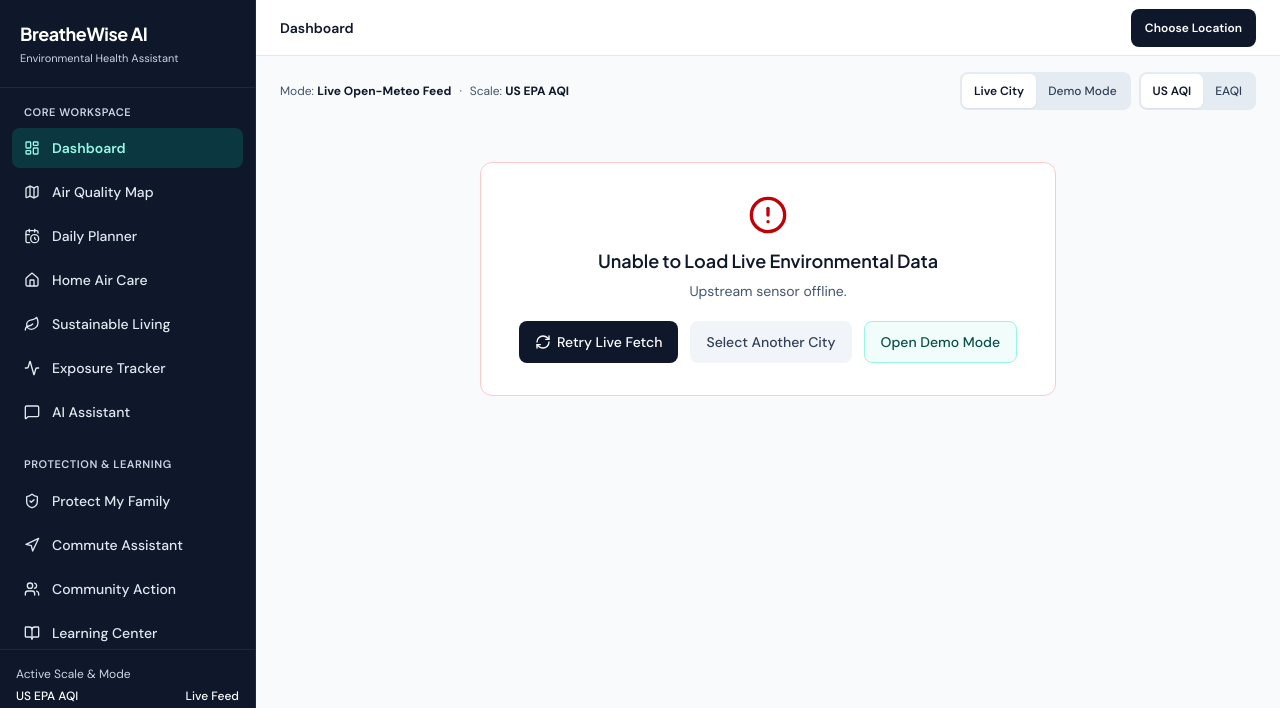
Scenario: BreatheWise AI Advanced Workflows: Live Gemini, Loading/Error Recovery, Notifications & Export › shows Dashboard loading skeleton, handles live fetch failure, and recovers on Retry Live Fetch
Expected: the message named "Loading air quality data" is shown, [480, 162, 1056, 396]
Expected: the heading "Unable to Load Live Environmental Data" is shown, [598, 249, 938, 272]
// Retry recovers seamlessly
Click the button "Retry Live Fetch" at (599, 342), box [519, 321, 678, 363]
(page scrolled)
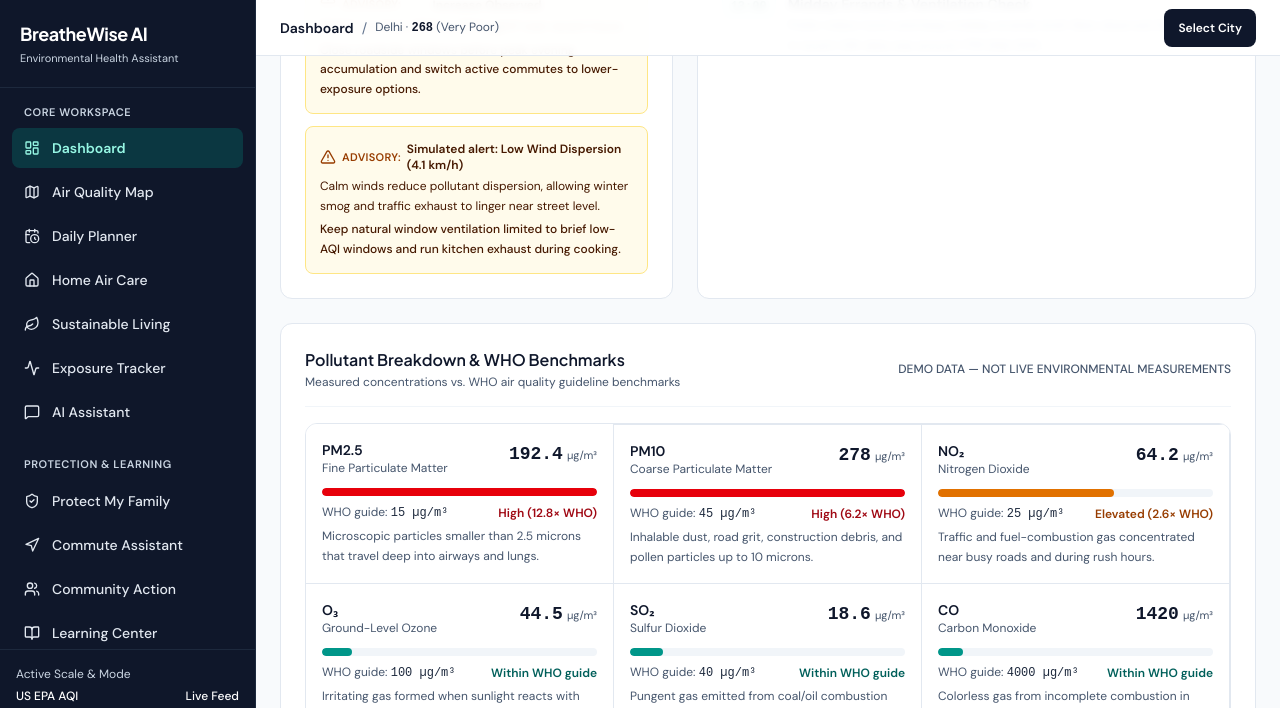
Expected: the heading "Pollutant Breakdown & WHO Benchmarks" is shown, [305, 348, 680, 372]
